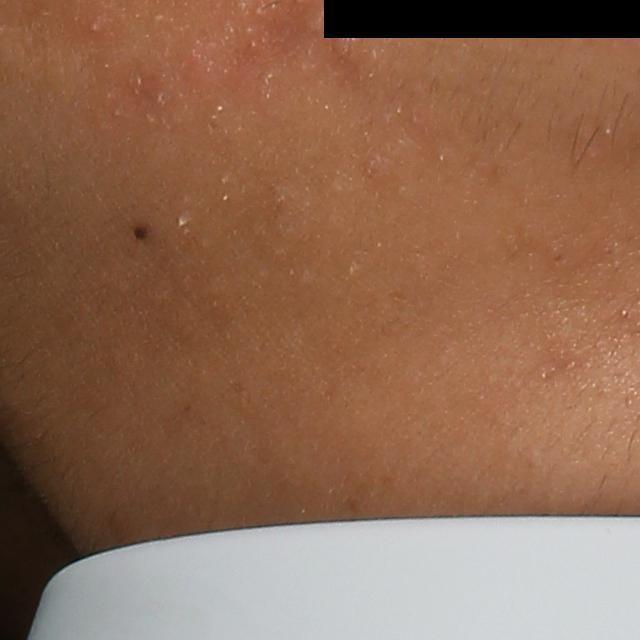nevus: (122, 217, 151, 244)
